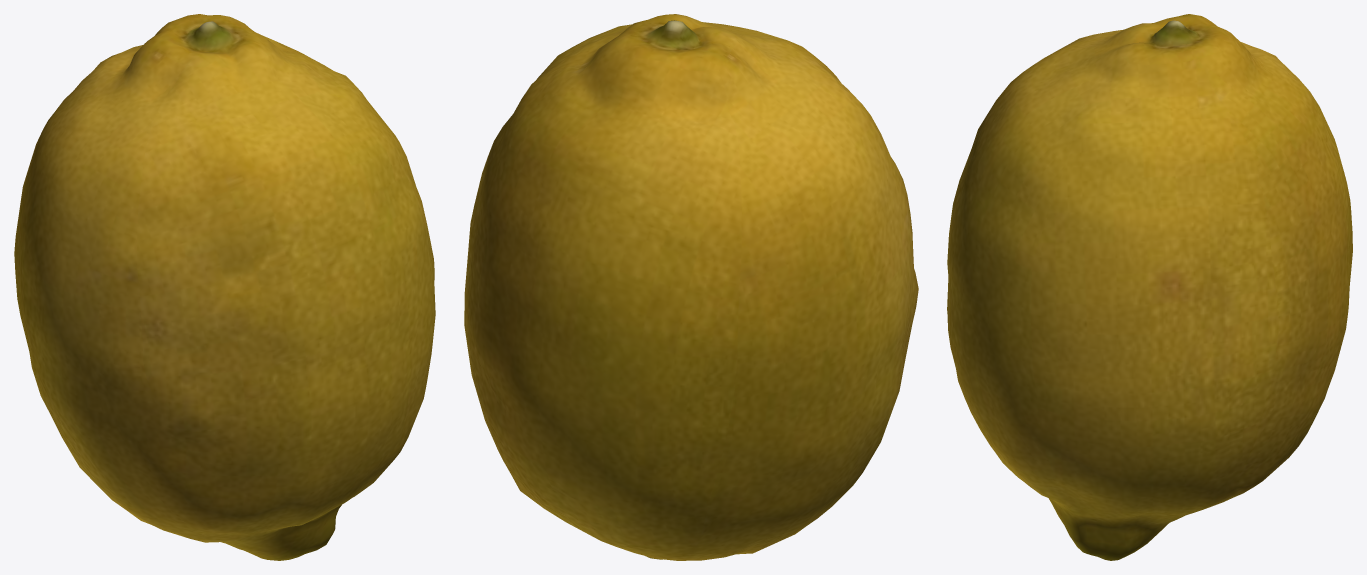
Rendered from lemon.glb.
The picture shows the model from 3 angles, left to right: view 1: azimuth 30°, elevation 25°; view 2: azimuth 150°, elevation 25°; view 3: azimuth 270°, elevation 25°; orthographic projection. The views are drawn at different scales.
Visible parts, largest first — view 1: lemon; view 2: lemon; view 3: lemon.
Boxes of the visible parts, x1,y1,x2,y2 form: lemon: [14, 14, 435, 560]; lemon: [464, 14, 918, 560]; lemon: [947, 14, 1352, 560].
Size of the model in its own units: 0.0687 by 0.0953 by 0.0683.
1 material, 1 textured.
